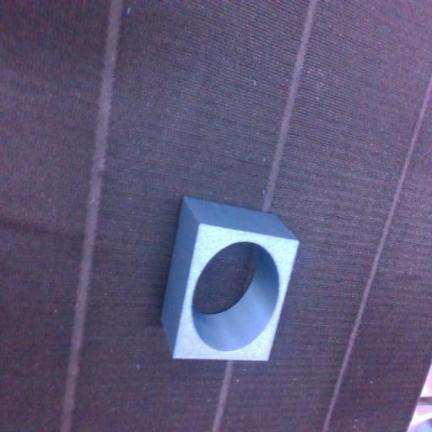hole: (162, 198, 298, 360)
